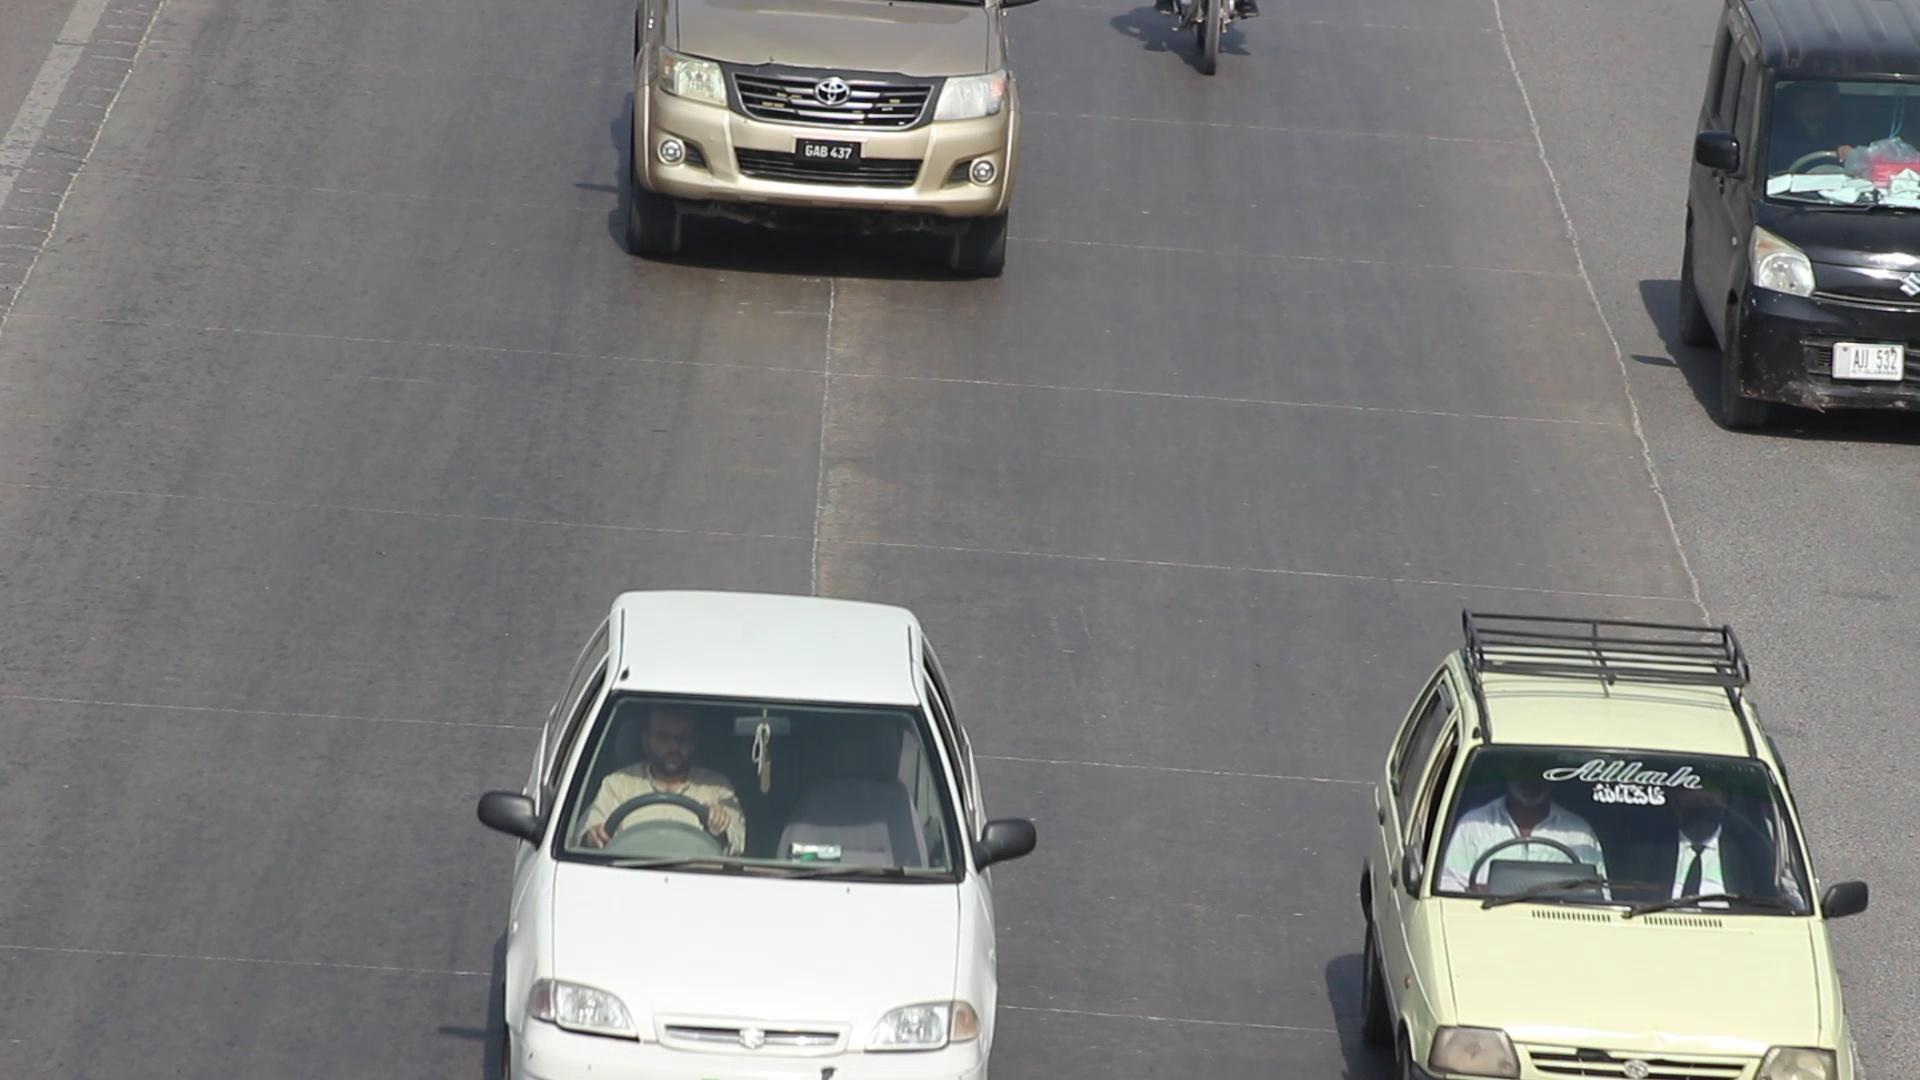windshield: (1414, 713, 1833, 940), (545, 663, 968, 886)
